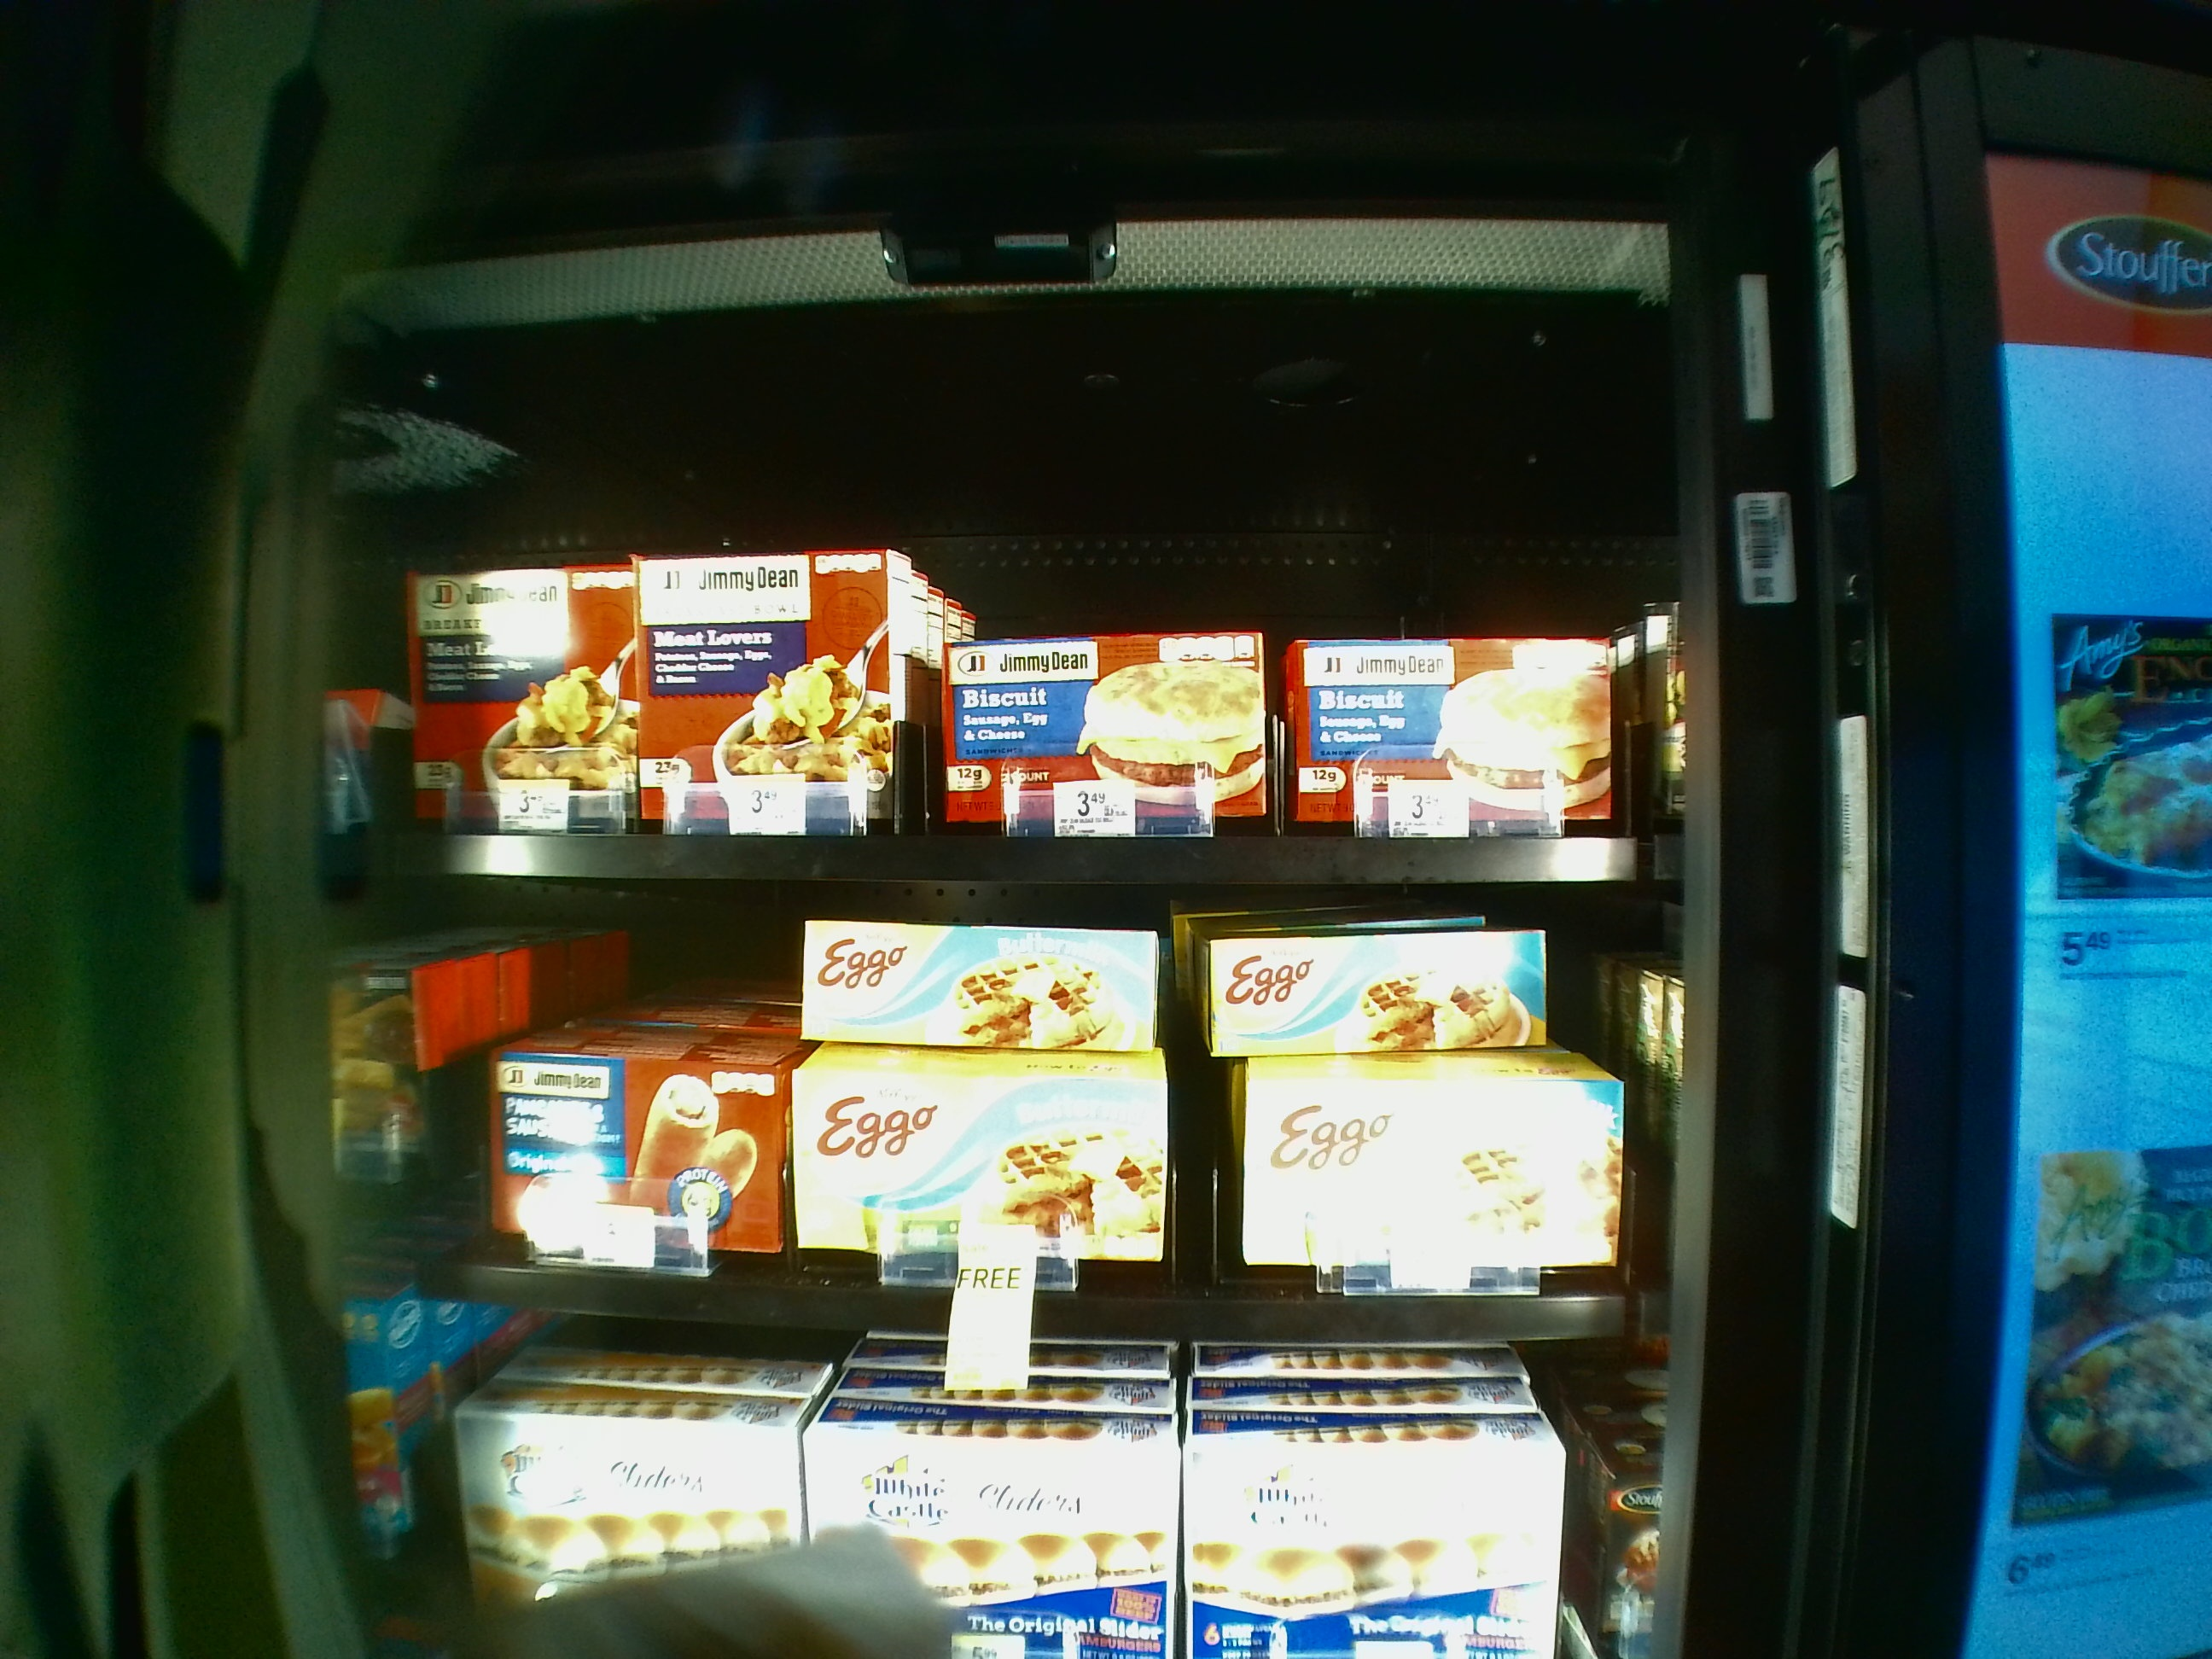shelf: (336, 340, 1663, 871), (336, 882, 1669, 1337)
